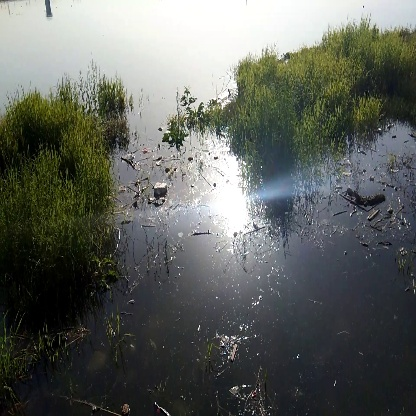plastic-garbage: (148, 175, 178, 202)
